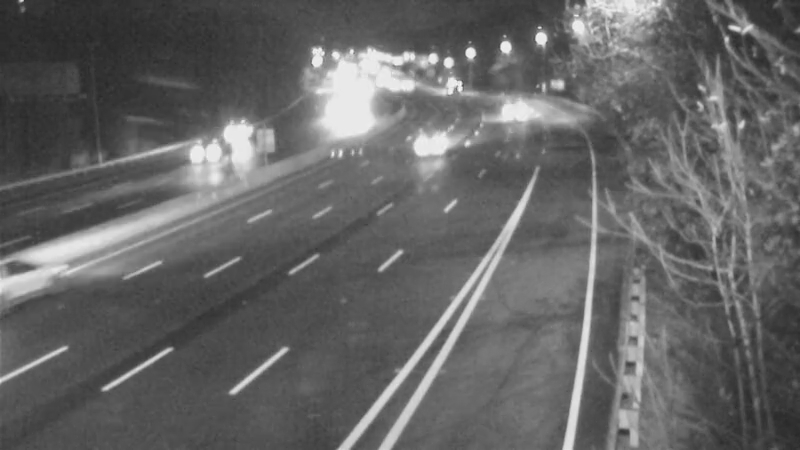vehicle: (165, 110, 245, 190), (1, 239, 67, 319), (424, 62, 474, 112), (483, 83, 533, 133), (418, 118, 468, 168), (213, 112, 263, 162)
